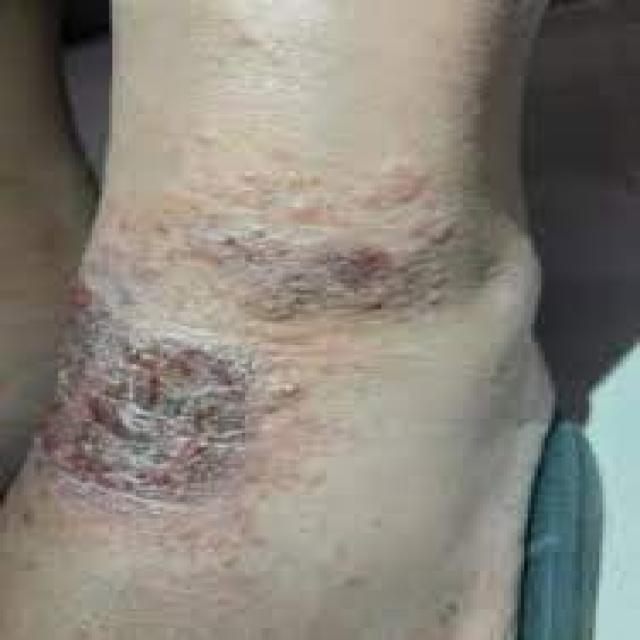Eczema: (28, 284, 287, 516), (225, 196, 510, 336)
